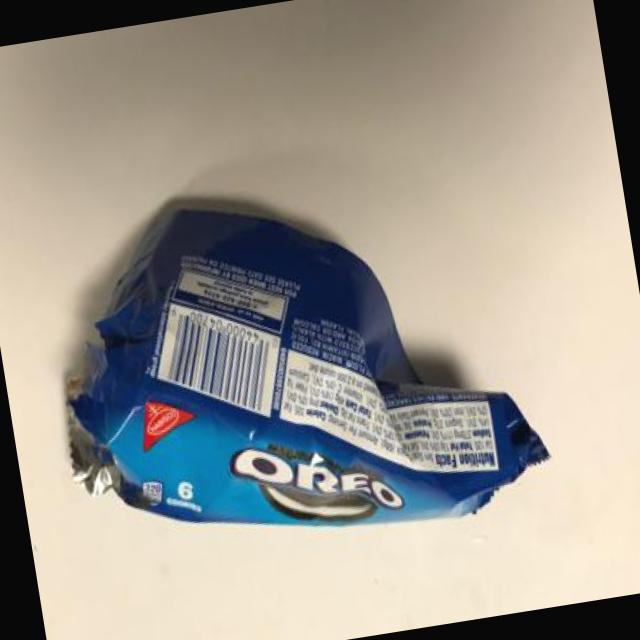giay_goi: (67, 199, 550, 527)
